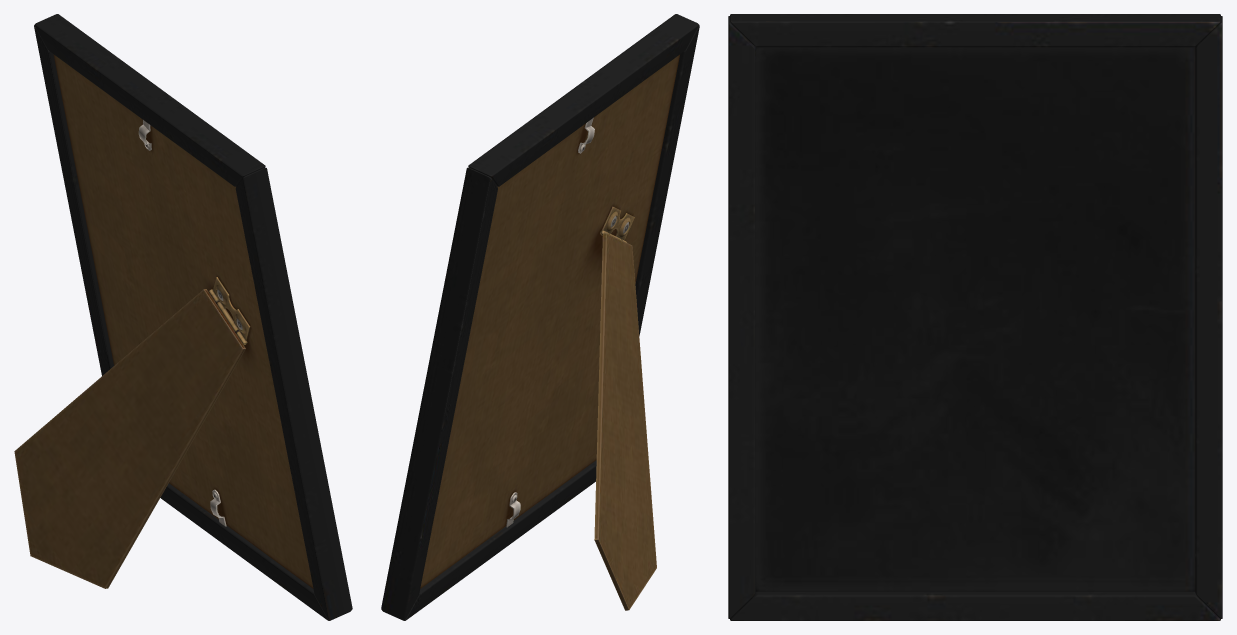
Rendered from standing_picture_frame_01.glb.
The picture shows the model from 3 angles, left to right: view 1: azimuth 30°, elevation 25°; view 2: azimuth 150°, elevation 25°; view 3: azimuth 270°, elevation 25°; orthographic projection. The views are drawn at different scales.
Parts seen in each view (by area): view 1: standing_picture_frame_01; view 2: standing_picture_frame_01; view 3: standing_picture_frame_01.
Part boxes in pixels (<box>): standing_picture_frame_01: <box>14,14,352,620</box>; standing_picture_frame_01: <box>381,14,699,620</box>; standing_picture_frame_01: <box>728,14,1222,620</box>.
Size of the model in its own units: 0.1003 by 0.2497 by 0.2008.
Materials: 3 (3 with a texture image).
